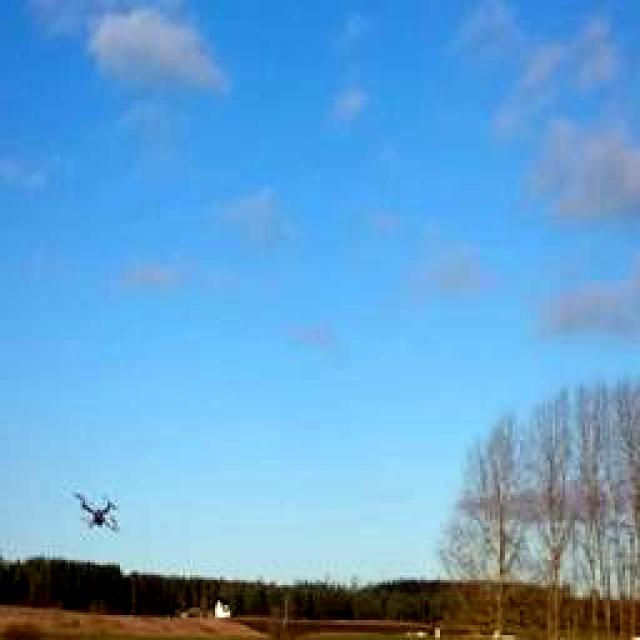bird: (68, 485, 140, 540)
